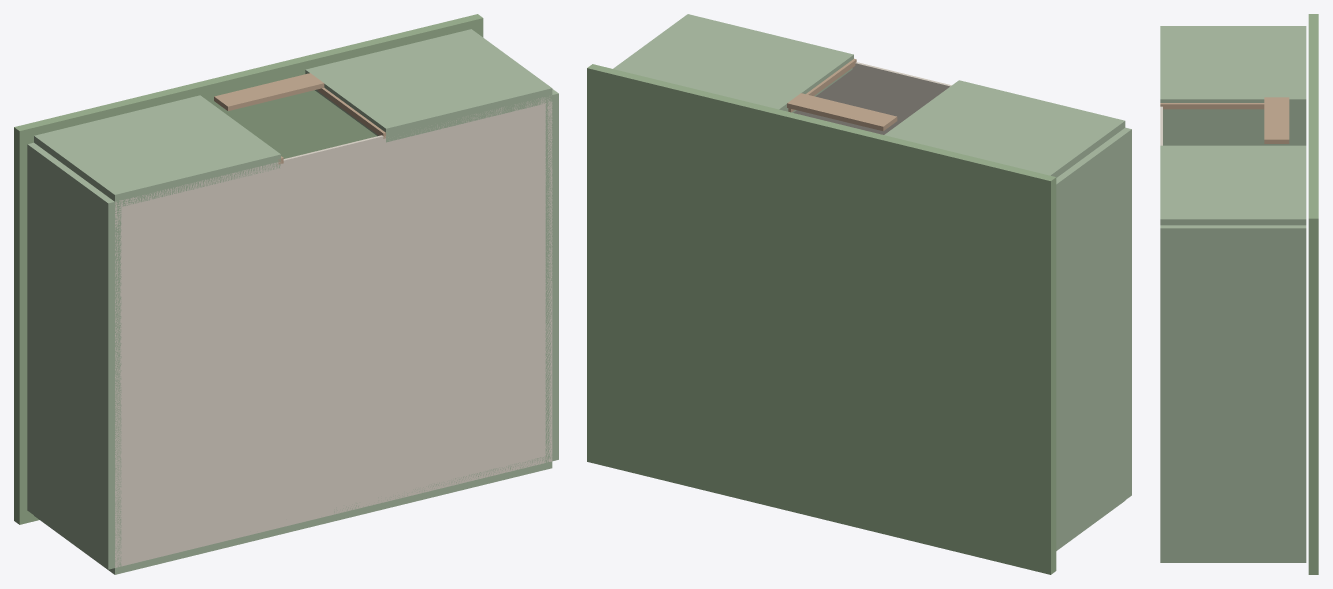
File: building_shop.glb
3 renders of one model, left to right at view 1: azimuth 30°, elevation 25°; view 2: azimuth 150°, elevation 25°; view 3: azimuth 270°, elevation 25°, orthographic. The views are drawn at different scales.
Visible parts, largest first — view 1: building_shop_floor, building_shop_w, building_shop_roof, building_shop_s_l, building_shop_s_r, building_shop_e, building_shop_n, building_shop_sign; view 2: building_shop_roof, building_shop_w, building_shop_s_l, building_shop_s_r, building_shop_floor, building_shop_sign; view 3: building_shop_e, building_shop_s_r, building_shop_s_l, building_shop_roof, building_shop_w, building_shop_sign, building_shop_jamb_l, building_shop_n.
Part boxes in pixels (left/top/right/bottom): building_shop_floor: left=115, top=95, right=552, bottom=567; building_shop_w: left=27, top=142, right=121, bottom=569; building_shop_roof: left=14, top=14, right=483, bottom=524; building_shop_s_l: left=34, top=95, right=280, bottom=207; building_shop_s_r: left=305, top=29, right=552, bottom=142; building_shop_e: left=545, top=89, right=558, bottom=462; building_shop_n: left=34, top=455, right=552, bottom=574; building_shop_sign: left=214, top=73, right=324, bottom=110; building_shop_roof: left=587, top=64, right=1056, bottom=574; building_shop_w: left=1056, top=127, right=1131, bottom=550; building_shop_s_l: left=884, top=80, right=1125, bottom=177; building_shop_s_r: left=613, top=14, right=853, bottom=112; building_shop_floor: left=793, top=62, right=951, bottom=134; building_shop_sign: left=787, top=93, right=897, bottom=131; building_shop_e: left=1160, top=225, right=1306, bottom=559; building_shop_s_r: left=1160, top=145, right=1306, bottom=225; building_shop_s_l: left=1160, top=26, right=1306, bottom=111; building_shop_roof: left=1308, top=14, right=1318, bottom=574; building_shop_w: left=1163, top=112, right=1306, bottom=145; building_shop_sign: left=1264, top=97, right=1289, bottom=143; building_shop_jamb_l: left=1160, top=103, right=1264, bottom=109; building_shop_n: left=1160, top=559, right=1306, bottom=562.
Bounding box in the file's own units: 10.6 × 8.6 × 3.47.
